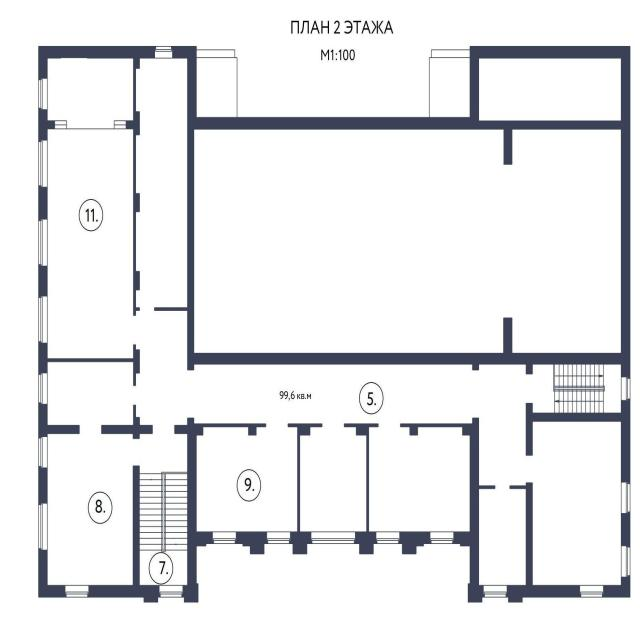Corridors: (136, 311, 472, 424), (137, 58, 187, 307), (479, 58, 620, 121), (480, 365, 525, 484), (48, 363, 133, 425), (197, 57, 237, 117), (430, 57, 469, 117), (140, 435, 187, 466)
Doors: (67, 120, 114, 129), (473, 370, 479, 418), (526, 374, 533, 403), (133, 438, 140, 466), (526, 456, 533, 483), (152, 426, 175, 434), (79, 426, 101, 433), (266, 423, 288, 427), (322, 423, 344, 427), (133, 315, 136, 344), (379, 423, 400, 427), (133, 385, 136, 405), (140, 307, 154, 311), (496, 485, 509, 489)
LBwalls: (172, 45, 631, 377), (453, 423, 486, 603), (181, 424, 214, 603), (38, 46, 156, 79), (38, 548, 67, 598), (506, 584, 580, 603), (88, 585, 160, 603), (399, 531, 431, 555), (621, 400, 630, 483), (236, 532, 267, 555), (603, 577, 631, 598), (289, 531, 312, 555), (354, 531, 377, 555), (38, 466, 48, 505), (38, 185, 48, 221), (38, 264, 48, 299), (38, 403, 48, 438), (38, 108, 48, 141), (621, 513, 630, 547), (38, 341, 47, 374), (504, 129, 512, 165), (135, 349, 140, 374), (135, 193, 140, 212), (300, 427, 311, 435), (355, 427, 366, 435), (136, 271, 140, 291), (248, 427, 256, 436), (410, 427, 418, 436), (137, 111, 140, 135)
Offices: (195, 129, 621, 353), (48, 130, 133, 358), (533, 423, 621, 584), (48, 435, 133, 584), (197, 427, 297, 531), (370, 427, 470, 531), (301, 428, 366, 531), (48, 59, 133, 119), (479, 490, 525, 584)
Stairs: (140, 466, 187, 584), (533, 364, 621, 412)
Walls: (154, 129, 195, 370), (525, 404, 621, 455), (344, 423, 379, 531), (48, 344, 136, 386), (288, 423, 322, 531), (126, 57, 140, 316), (509, 483, 533, 585), (101, 405, 153, 439), (478, 121, 620, 130), (133, 466, 140, 585), (431, 49, 470, 57), (197, 49, 235, 57), (48, 425, 79, 434), (203, 423, 266, 427), (400, 424, 463, 427), (175, 425, 187, 434), (479, 485, 495, 489), (526, 365, 533, 374), (187, 417, 195, 424), (472, 417, 480, 423), (472, 365, 479, 370)
Windows: (311, 531, 356, 545), (38, 219, 48, 266), (38, 139, 47, 187), (38, 295, 47, 343), (38, 503, 47, 550), (38, 77, 48, 110), (159, 584, 182, 598), (38, 436, 48, 468), (65, 585, 89, 598), (212, 531, 236, 544), (267, 531, 290, 544), (430, 531, 453, 544), (484, 584, 507, 597), (580, 585, 603, 598), (621, 482, 630, 514), (38, 373, 47, 404), (621, 546, 630, 577), (154, 45, 173, 59), (376, 532, 400, 543), (621, 377, 630, 400), (114, 120, 127, 129), (55, 120, 67, 129)
